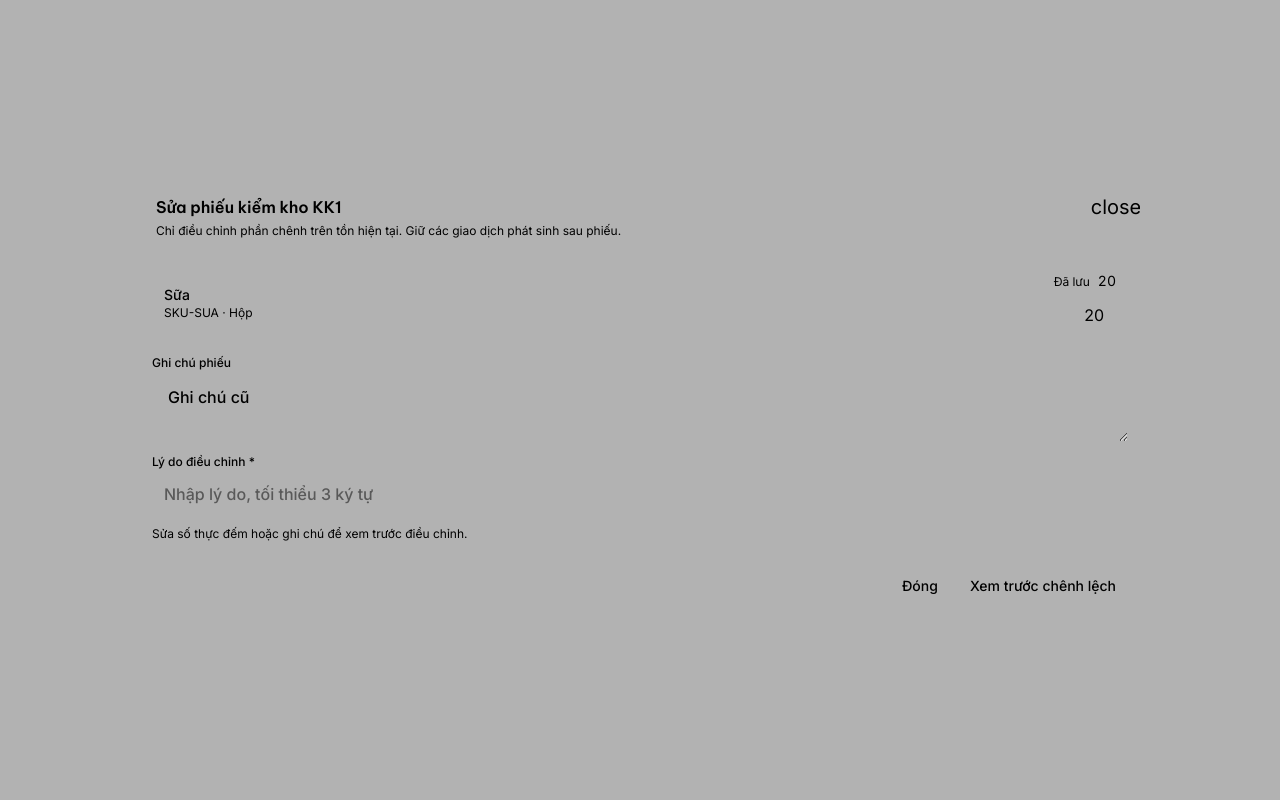
Test case: inventory correction workflow › shows corrected draft quantities even though the draft does not change stock
This screenshot has width=1280, height=800.
Expected: the field named "Thực đếm sửa lại Sữa" is shown, [996,295,1116,335]
Step 1. Type "Đếm nhầm" into the field with placeholder "Nhập lý do, tối thiểu 3 ký tự" → (640, 493), box [152,473,1128,513]
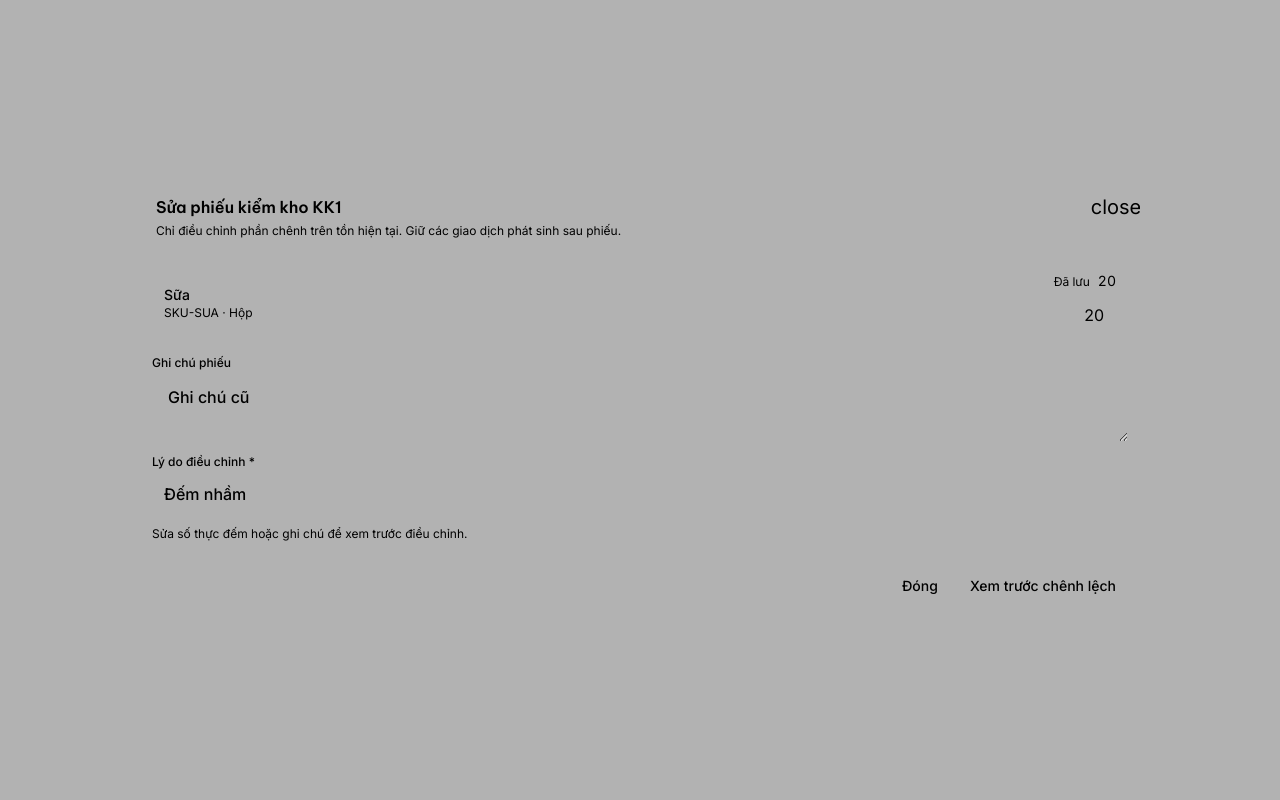
Step 2. Replace the text in the field named "Thực đếm sửa lại Sữa" with "18" → (1056, 315), box [996,295,1116,335]
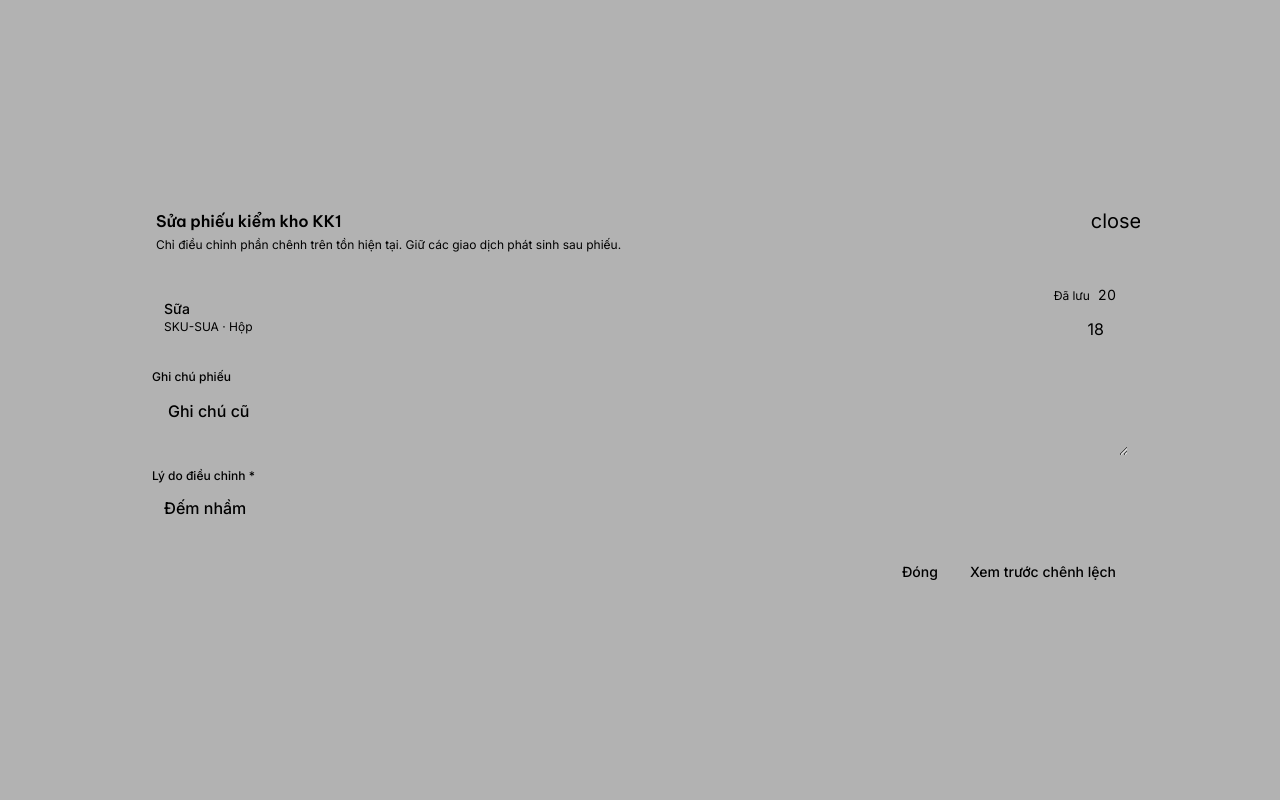
Step 3. Click the button "Xem trước chênh lệch" → (1043, 571), box [958,551,1128,591]
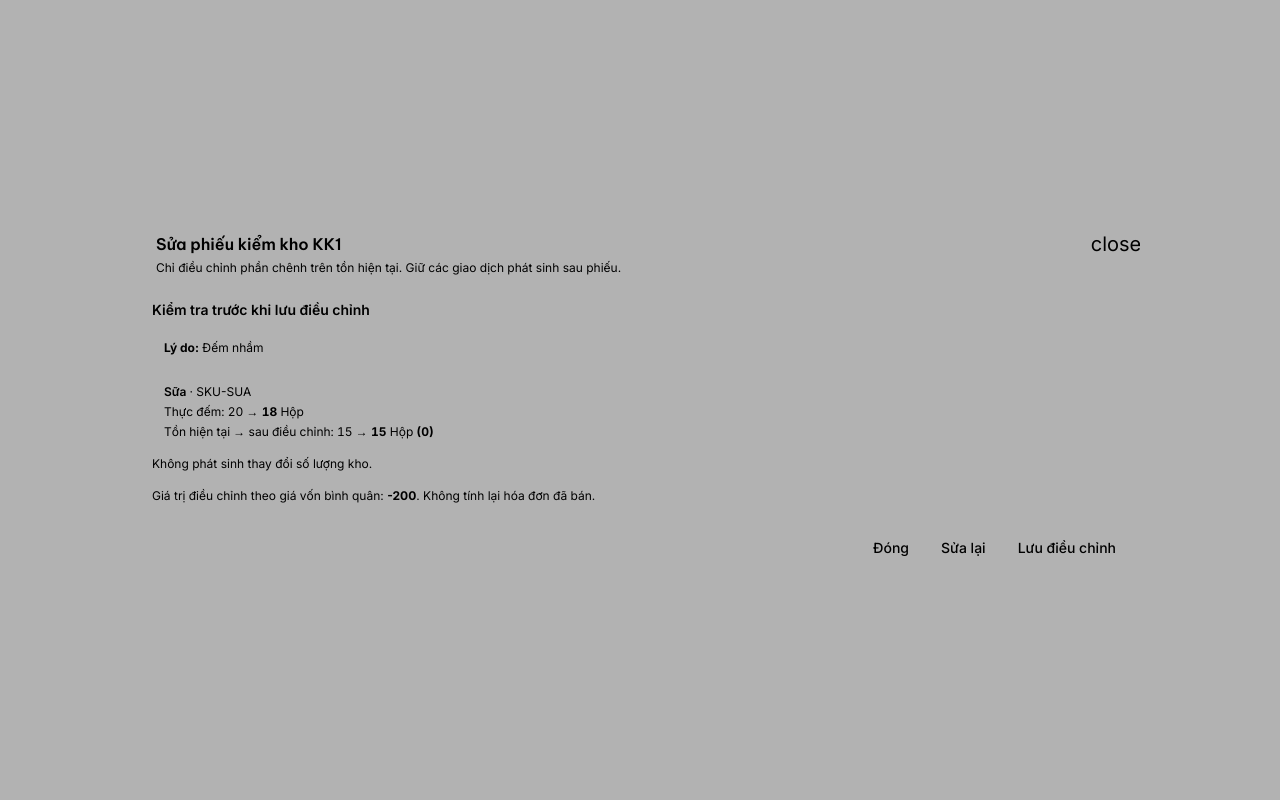
Expected: the element named "Xem trước thay đổi kho" is shown, [152,301,595,503]
Expected: the text "Thực đếm: 20 → 18 Hộp" is shown, [164,404,304,419]
